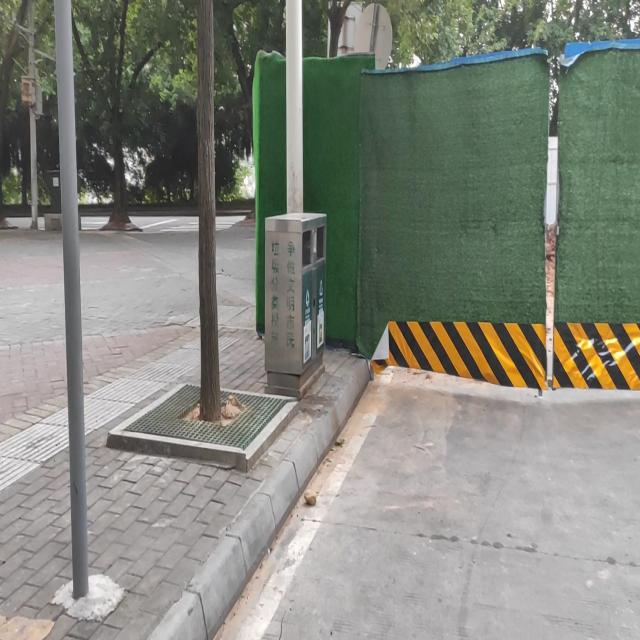ash bin: (263, 212, 330, 401)
pole: (55, 0, 85, 599), (281, 8, 306, 203), (26, 33, 39, 227)
